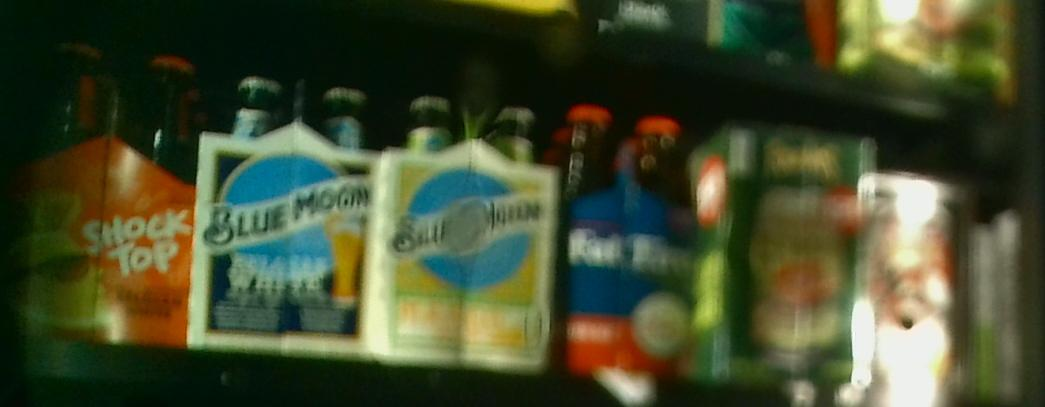bottle: (8, 40, 187, 349), (200, 67, 384, 352), (379, 87, 556, 376), (703, 117, 874, 391), (560, 97, 701, 385), (868, 172, 973, 401)
